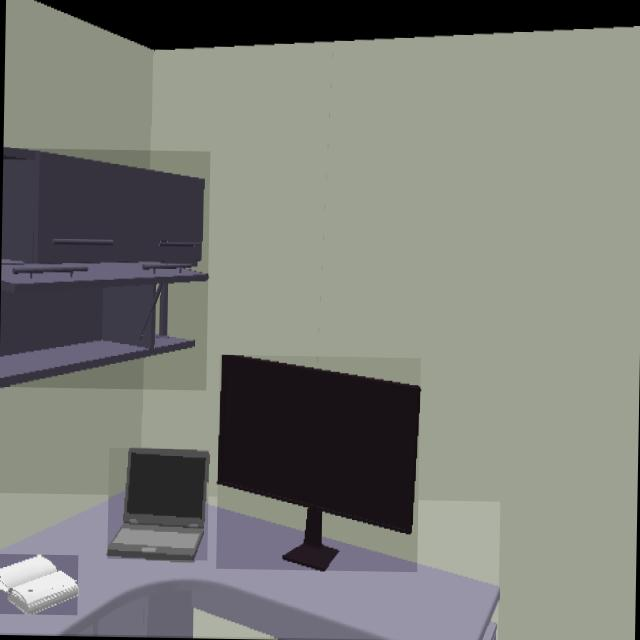book: (0, 555, 77, 614)
cabinet: (0, 148, 208, 386)
laptop: (107, 448, 208, 560)
monitor: (217, 355, 420, 570)
table: (0, 495, 498, 640)
